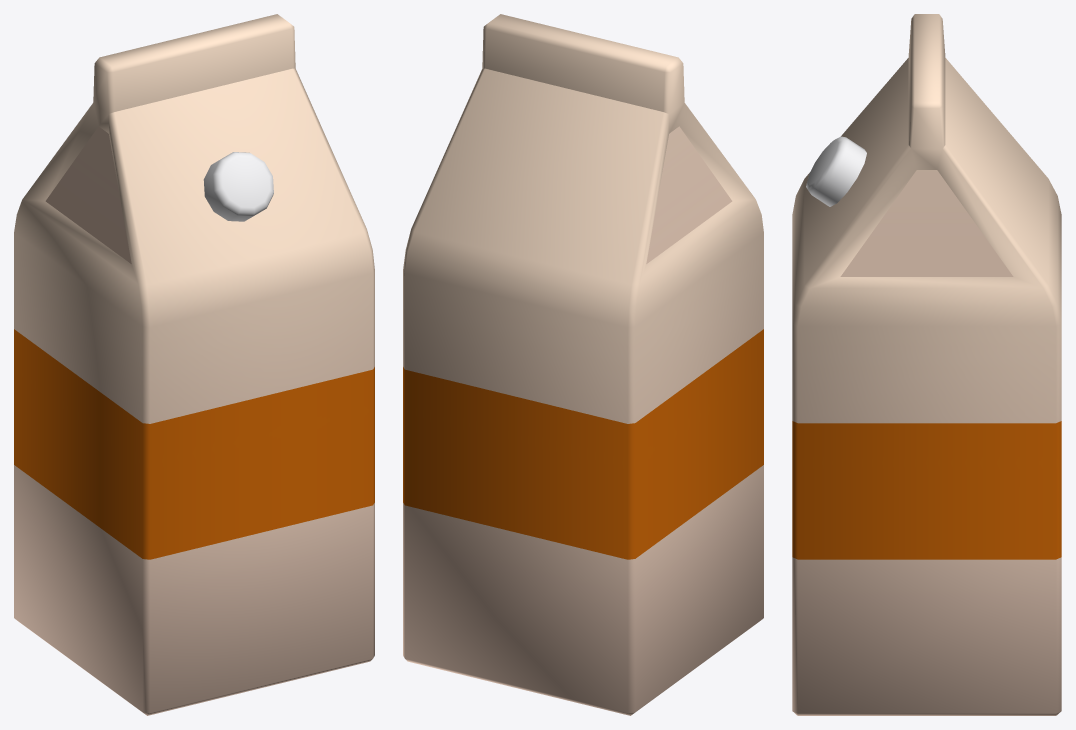
Rendered from Milk_cocoa.fbx.
The picture shows the model from 3 angles, left to right: view 1: azimuth 30°, elevation 25°; view 2: azimuth 150°, elevation 25°; view 3: azimuth 270°, elevation 25°; orthographic projection.
Parts seen in each view (by area): view 1: Milk_cocoa; view 2: Milk_cocoa; view 3: Milk_cocoa.
Part boxes in pixels (left/top/right/bottom): Milk_cocoa: left=14, top=14, right=374, bottom=715; Milk_cocoa: left=403, top=14, right=763, bottom=715; Milk_cocoa: left=792, top=14, right=1061, bottom=715.
Bounding box in the file's own units: 100 × 100 × 247.
